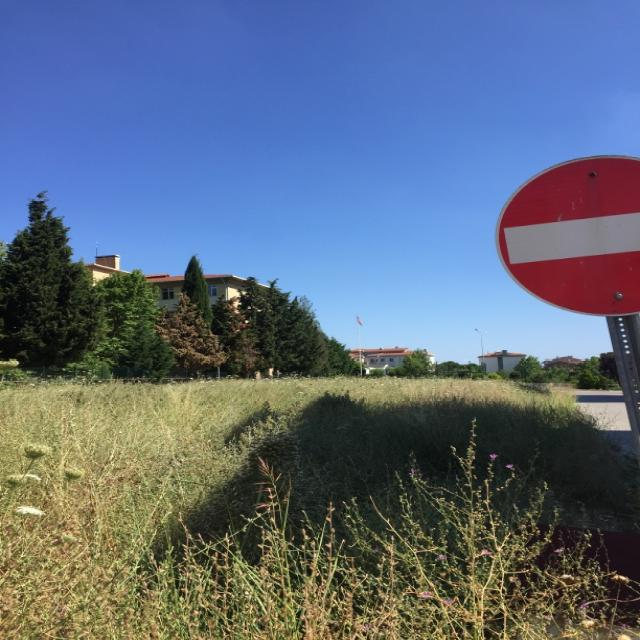girisyok: (495, 155, 640, 316)
